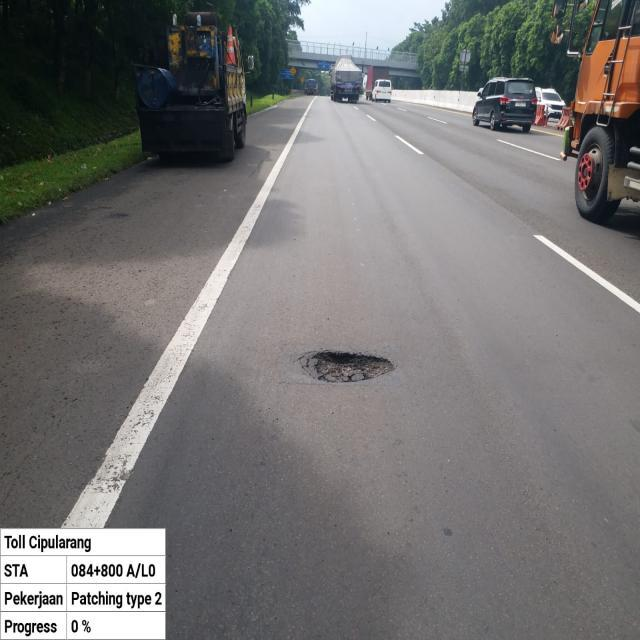Buraco: (295, 348, 398, 386)
